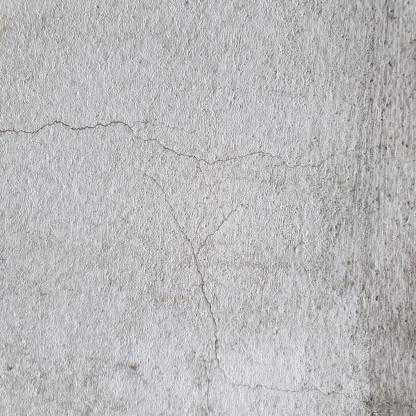crack: (1, 117, 332, 173), (147, 171, 221, 360)
